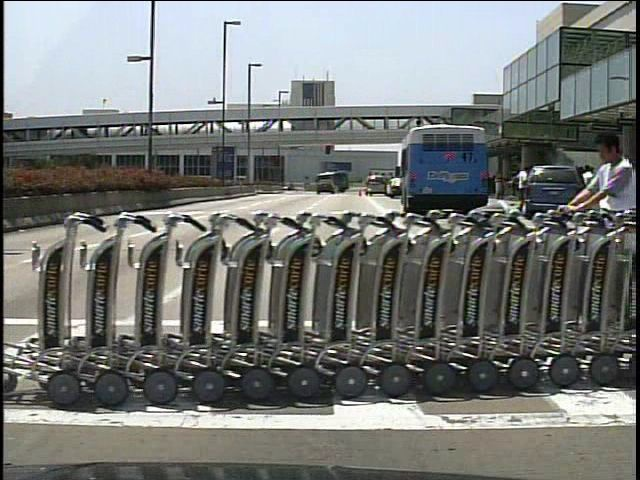person: (570, 126, 638, 355), (572, 164, 591, 223), (580, 165, 601, 214), (512, 162, 529, 212)
